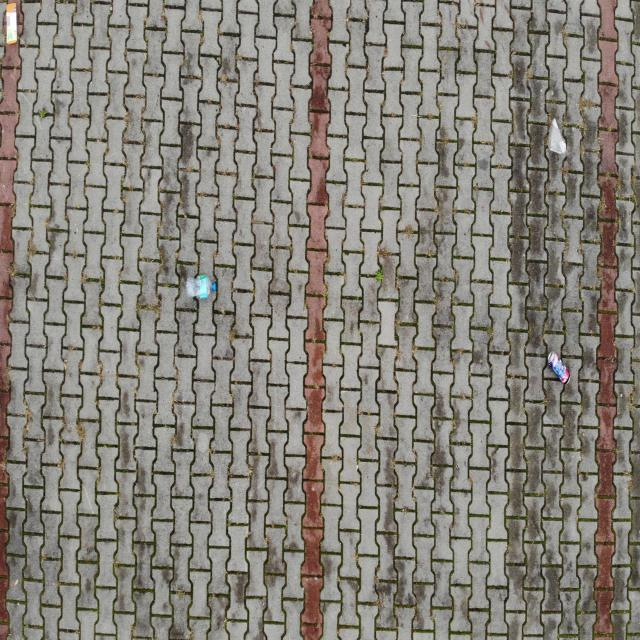rubbish: (186, 274, 216, 299), (548, 350, 570, 384), (548, 118, 566, 154), (6, 0, 18, 43)
